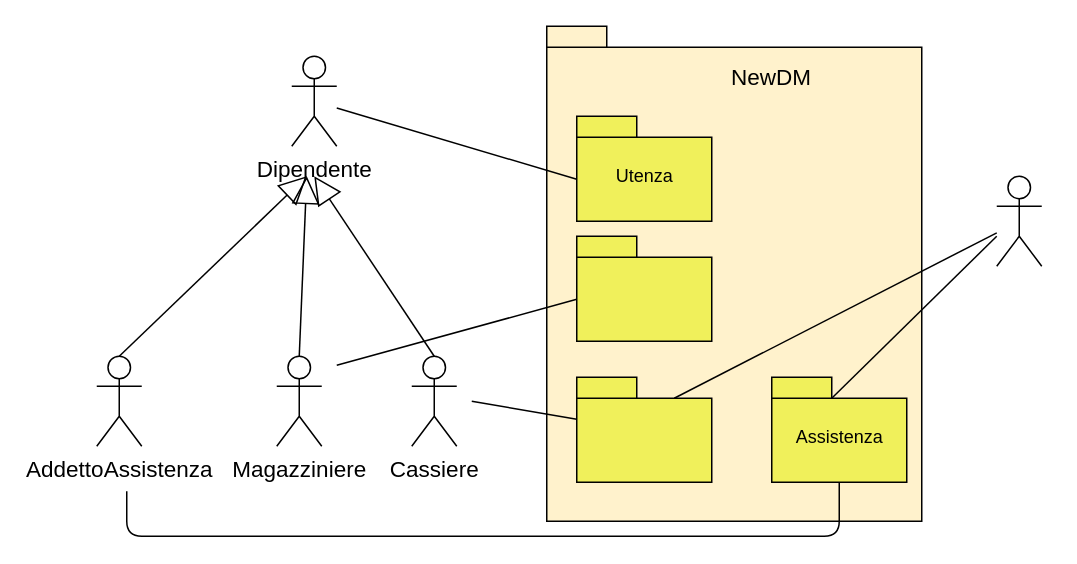
Some shapes in this 1077 by 564 pixel diagram are drawn without their labels. The centre of each missing label's shape, as x and y in pixels:
"Cassa" belongs at pixel 643 429.
"Cliente" belongs at pixel 1018 220.
"Magazzino" belongs at pixel 643 288.
